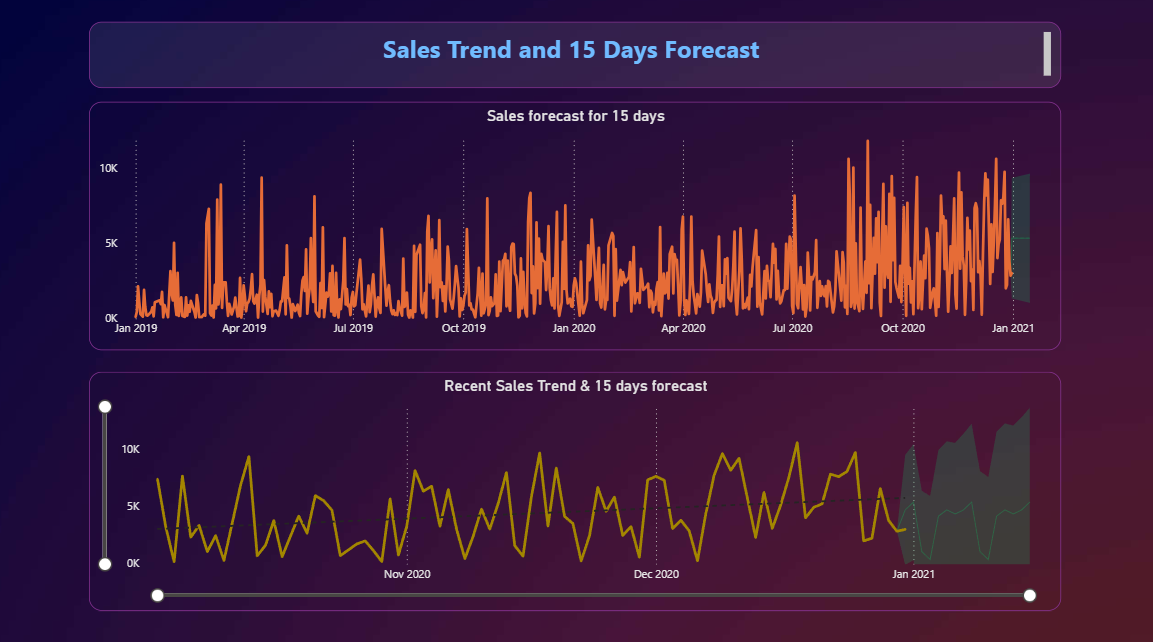

The dashboard page shown, as its layout file describes it:
{"tool":"powerbi","page":{"name":"Page 2","canvas":[1280,720],"ordinal":1},"visuals":[{"type":"lineChart","title":"Sales forecast for 15 days","fields":{"Y":["Sum(SuperStore_Sales_Dataset.Sales)"],"Category":["SuperStore_Sales_Dataset.Order Date"]},"box":[104.3,119.4,1067.6,273.1],"z":0},{"type":"lineChart","title":"Recent Sales Trend & 15 days forecast ","fields":{"Category":["SuperStore_Sales_Dataset.Order Date"],"Y":["Sum(SuperStore_Sales_Dataset.Sales)"]},"box":[104.3,415.8,1067.6,262.1],"z":1000},{"type":"textbox","box":[104.3,31.6,1067.6,72.7],"z":1001}]}

Visuals, with their boxes in screenshot pixels (x1, y1, x2, y2), scaled from the page's 1280x720 canvas onto the 1153x642 screenshot:
"Sales forecast for 15 days" lineChart: bbox=(94, 106, 1056, 350)
"Recent Sales Trend & 15 days forecast " lineChart: bbox=(94, 371, 1056, 604)
textbox: bbox=(94, 28, 1056, 93)
